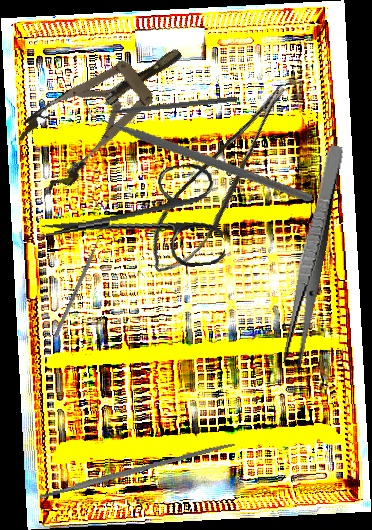Chopper: (84, 57, 313, 240)
Dressing Forceps: (279, 143, 346, 367)
Hook Surgical: (93, 94, 237, 117)
Iris Scissors: (35, 161, 227, 285)
Micro Scissor: (128, 79, 318, 285)
Pusher: (53, 226, 107, 338)
Scalpel Handle: (37, 439, 236, 501)
Speculum: (7, 21, 205, 197)
